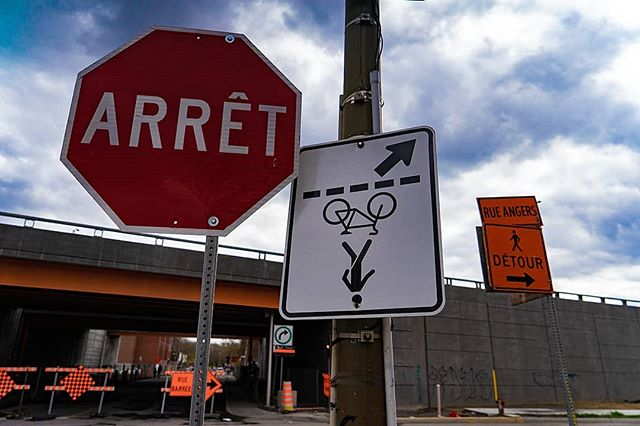bridge: (1, 200, 320, 344)
sign: (63, 15, 297, 247), (283, 134, 442, 313), (470, 193, 554, 293), (167, 367, 216, 406)
sky: (1, 1, 618, 269)
